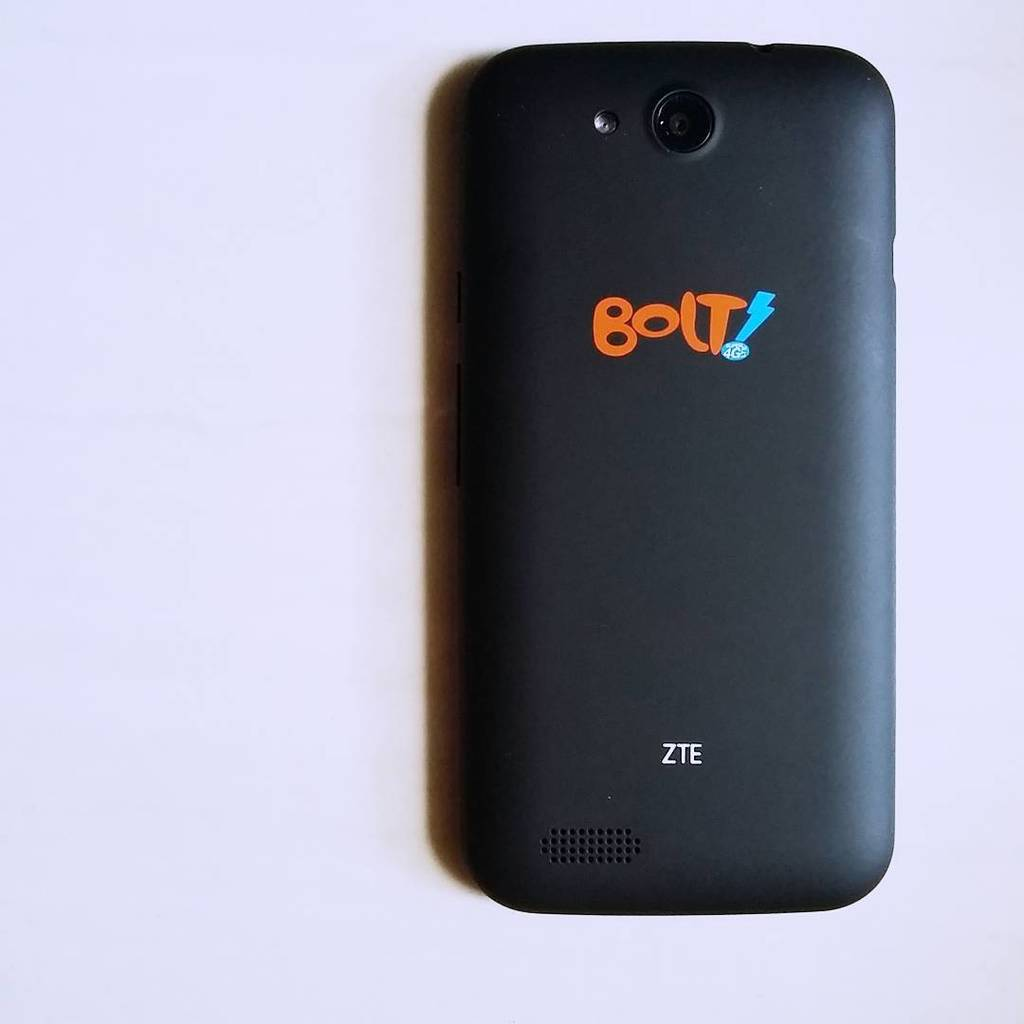Mobile-phone: (436, 42, 904, 917)
